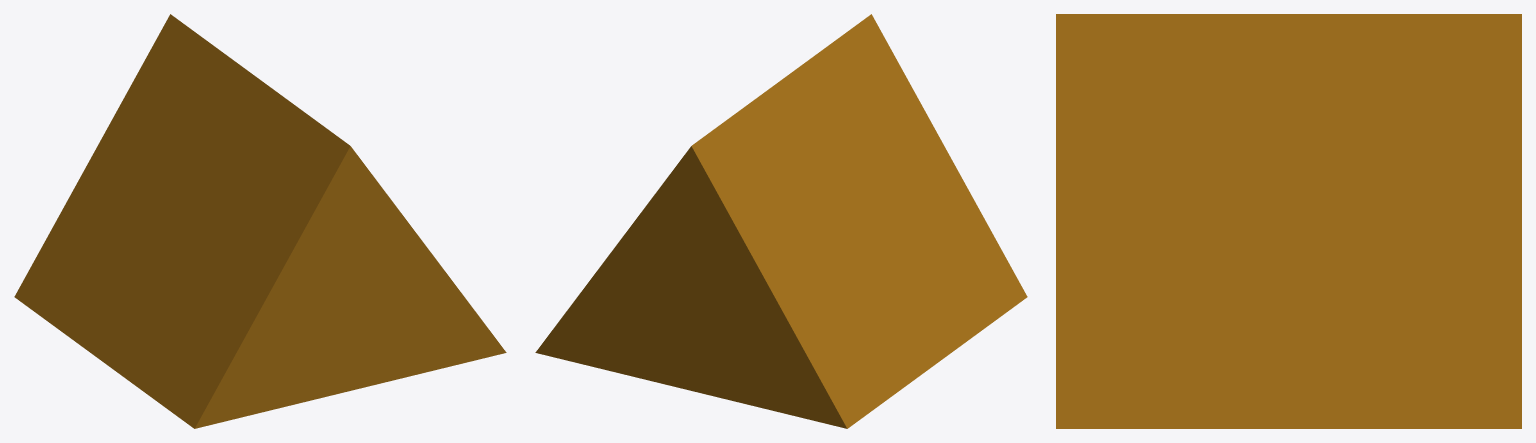
Rendered from Roof-Steep-4x4x3-Straight-Ridge.FBX.
3 views of the same model, side by side, from view 1: azimuth 30°, elevation 25°; view 2: azimuth 150°, elevation 25°; view 3: azimuth 270°, elevation 25° (orthographic). The views are drawn at different scales.
Visible parts, largest first — view 1: Roof-Steep-4x4x3-Straight-Ridge; view 2: Roof-Steep-4x4x3-Straight-Ridge; view 3: Roof-Steep-4x4x3-Straight-Ridge.
Boxes of the visible parts, x1=… form: Roof-Steep-4x4x3-Straight-Ridge: x1=14, y1=14, x2=506, y2=428; Roof-Steep-4x4x3-Straight-Ridge: x1=535, y1=14, x2=1027, y2=428; Roof-Steep-4x4x3-Straight-Ridge: x1=1056, y1=14, x2=1521, y2=428.
Bounding box in the file's own units: 40 × 40 × 30.
